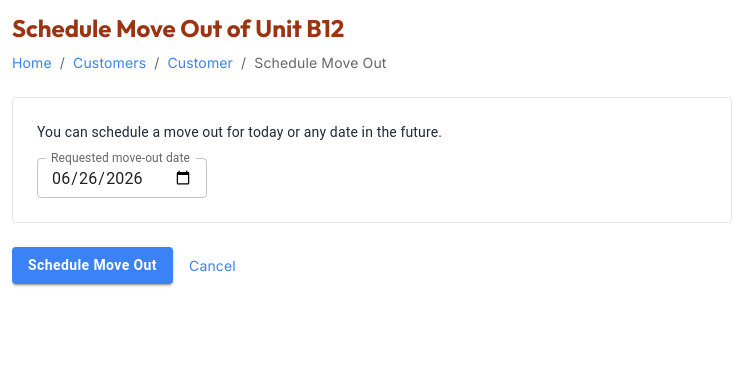
Test: <ScheduleMoveOutPage> › surfaces server errors instead of redirecting
The image size is (749, 368).
Check: the heading "Schedule Move Out of Unit B12" is shown, box [12,13,344,43]
What coordinates should you click on to do the following:
click the button "Schedule Move Out"
I would click on:
 (92, 265)
Its box is [12,247,173,284].
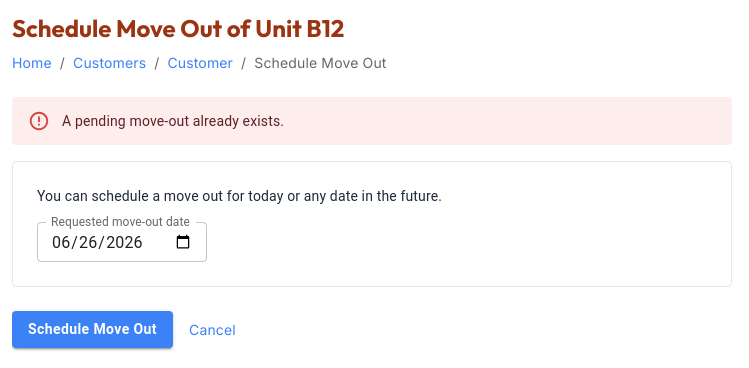
Check: the text "A pending move-out already exists." is shown, box [62,113,284,129]
